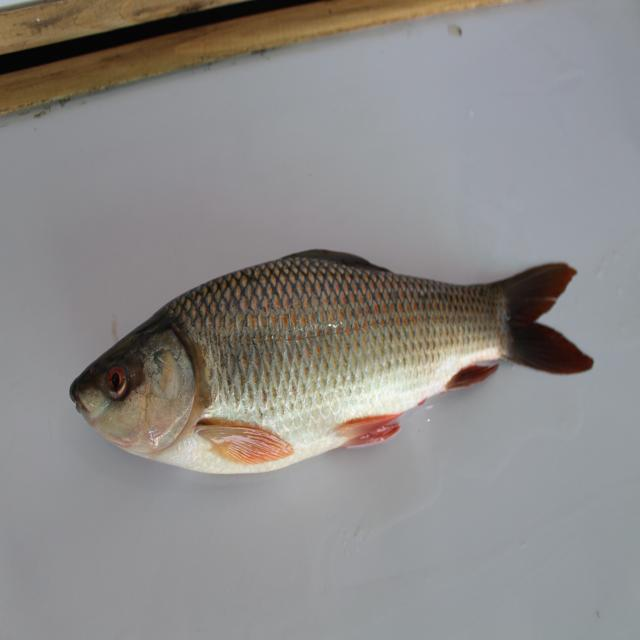Rohu: (33, 227, 603, 491)
